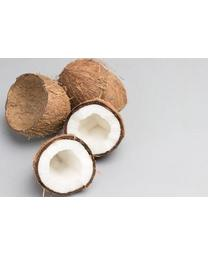coconut: (5, 73, 72, 140), (58, 59, 128, 115), (33, 134, 97, 195), (65, 97, 125, 161)
